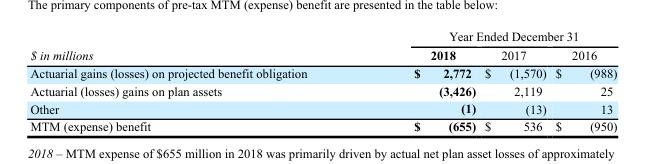table: (29, 29, 616, 132)
table column: (29, 29, 359, 132), (359, 29, 479, 132), (479, 29, 550, 132), (550, 29, 616, 132)
table column header: (29, 29, 616, 63)
table row: (29, 45, 616, 63), (29, 63, 616, 81), (29, 81, 616, 99), (29, 99, 616, 117), (29, 29, 616, 45), (29, 117, 616, 132)
table spanning cell: (29, 29, 359, 63), (359, 29, 616, 45)
